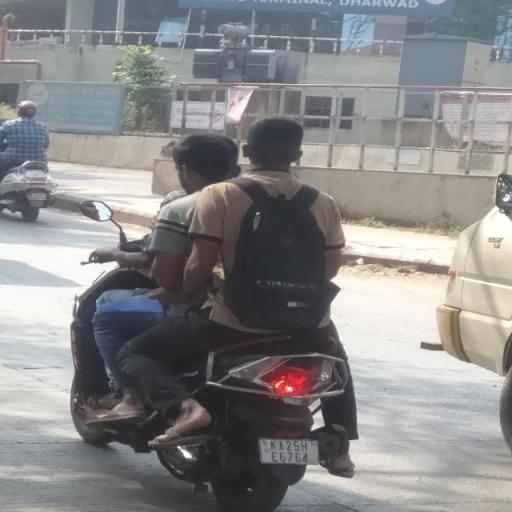bike: (54, 108, 392, 512)
numberplate: (262, 436, 321, 466)
withouthelmet: (175, 135, 233, 185), (247, 118, 302, 170)
